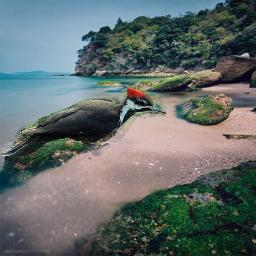Woodpecker: (1, 87, 166, 156)
